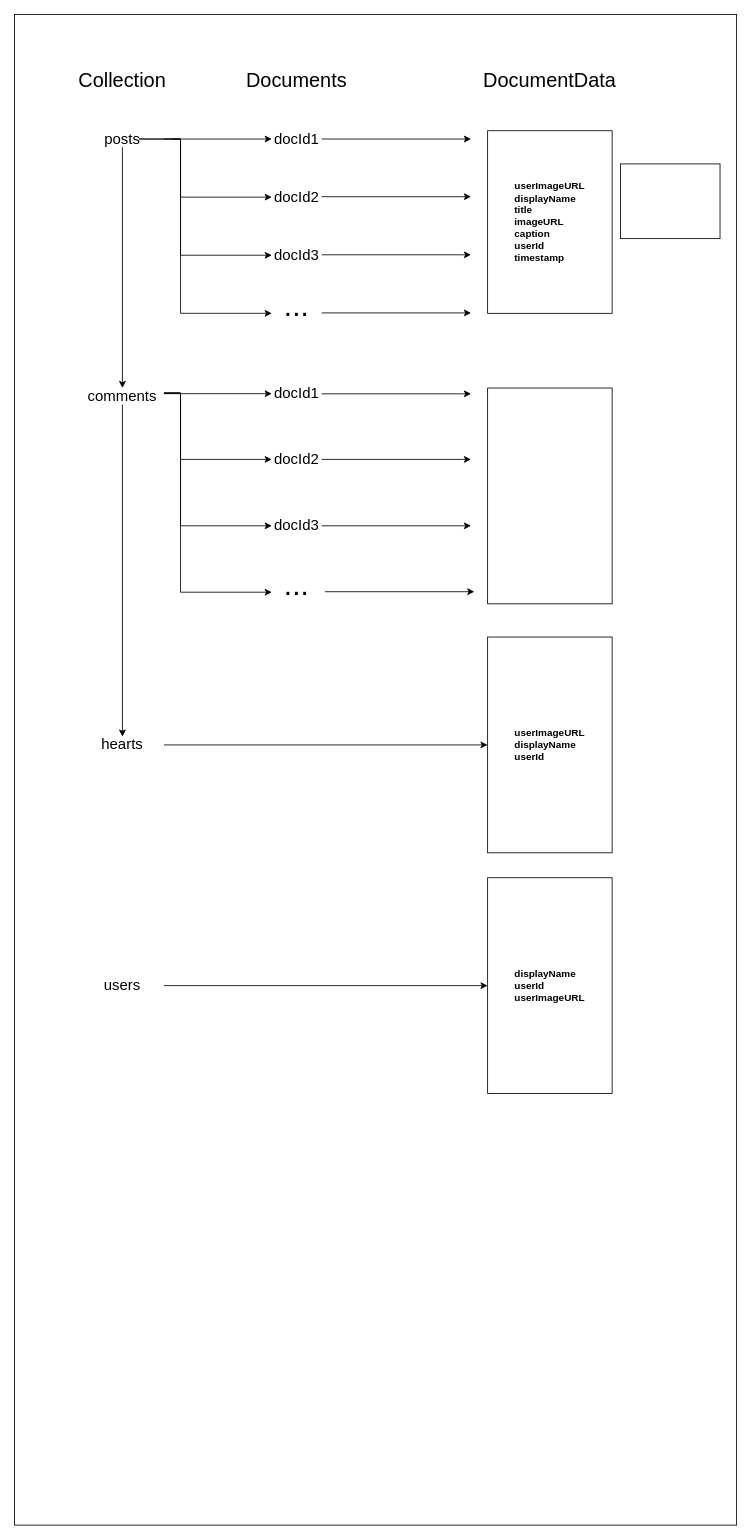
Image size: 751x1540. Some labels were removed from this diagram. Each missing label, with the centre of its shape:
"userImageURL displayName comment timestamp userId" goes at [549,495].
"userImageURL이 업데이트 되면 posts collection 에서 userId로 user의 post 검색 후 업데이트" goes at [670,201].
